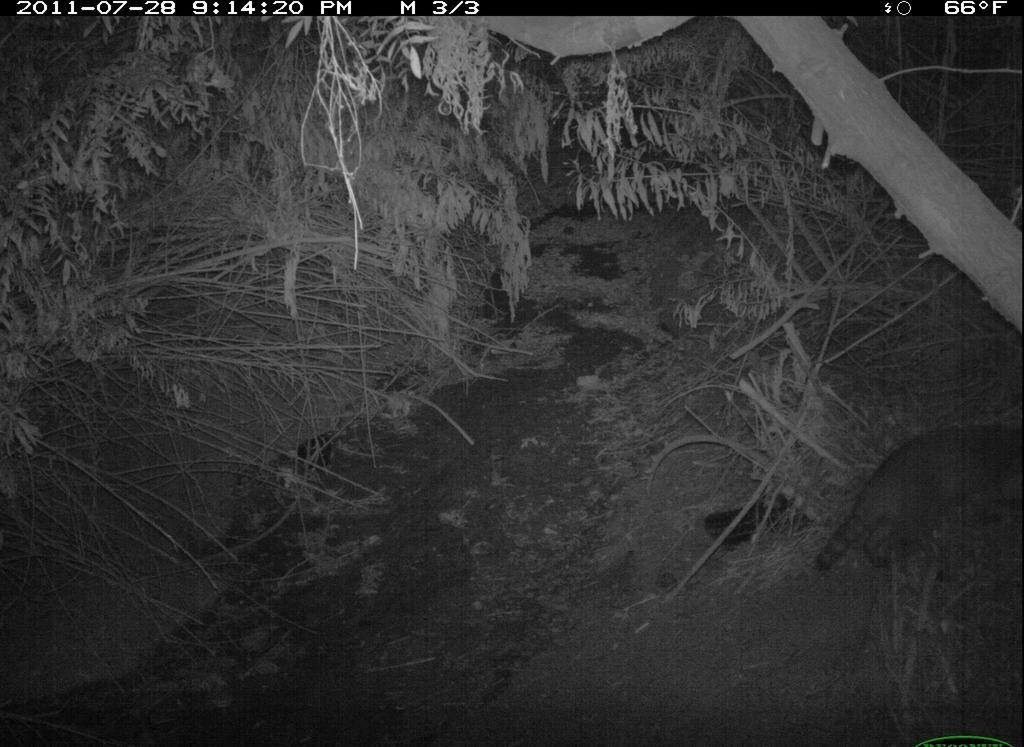raccoon: (795, 413, 1022, 584)
